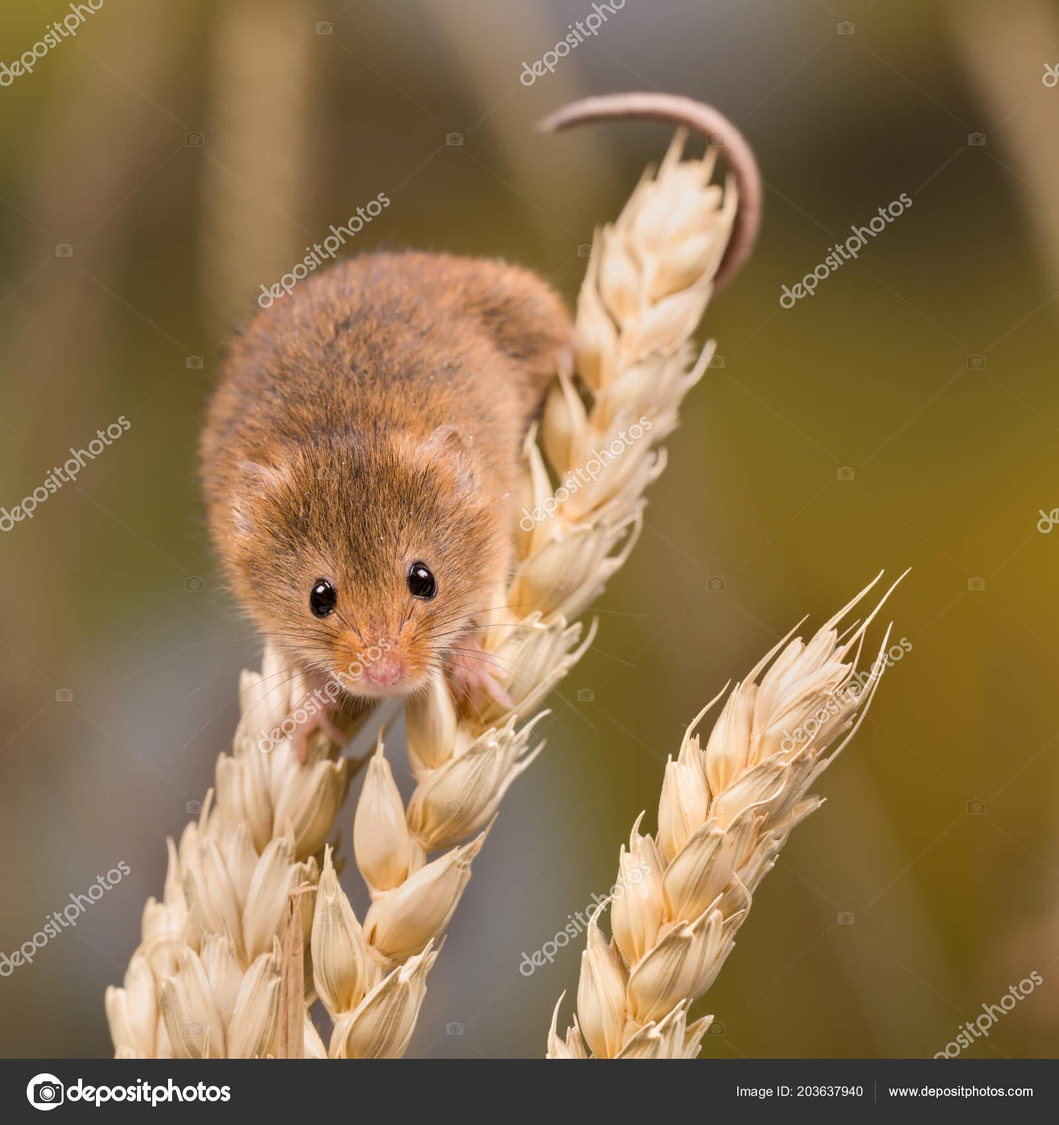rat: (202, 92, 763, 765)
